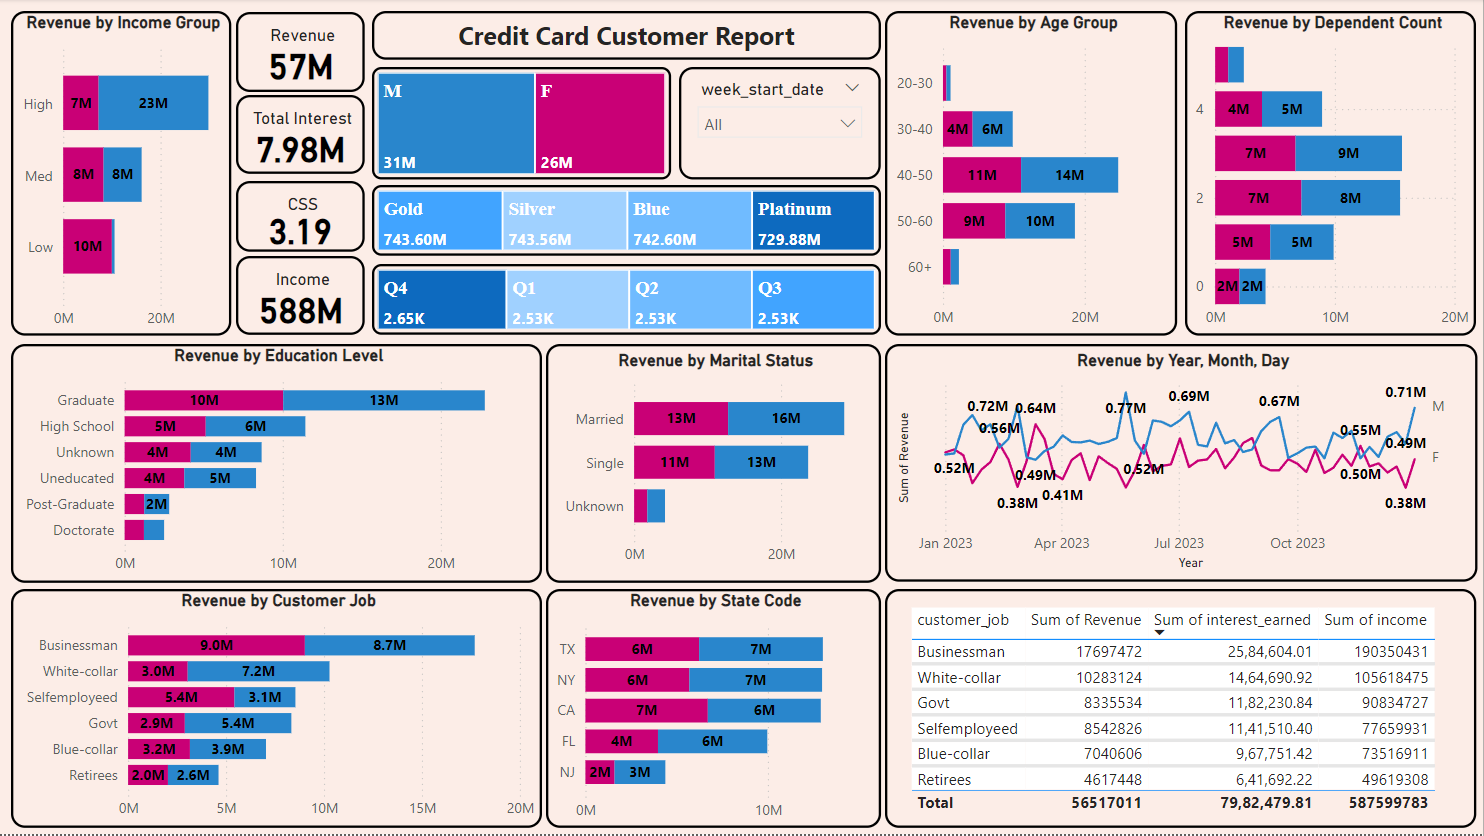

What the dashboard file says about the page in this screenshot:
{"tool":"powerbi","page":{"name":"Credit_Card_Customer_Report","canvas":[1280,720],"ordinal":1},"visuals":[{"type":"textbox","box":[322.1,10.1,438.6,42.2],"z":0},{"type":"slicer","fields":{"Values":["public customer_card_transactions.week_start_date"]},"box":[586.3,58.7,174.3,97.3],"z":1000},{"type":"treemap","fields":{"Group":["public customer_card_transactions.qtr"],"Values":["Count(public customer_card_transactions.Revenue)"]},"box":[322.1,228.5,438.6,61.5],"z":2000},{"type":"treemap","fields":{"Group":["public customer_profile.gender"],"Values":["Sum(public customer_card_transactions.Revenue)"]},"box":[322.1,58.7,257.8,97.3],"z":3000},{"type":"treemap","fields":{"Group":["public customer_card_transactions.card_category"],"Values":["Avg(public customer_card_transactions.client_num)"]},"box":[322.1,160.6,438.6,61.5],"z":4000},{"type":"card","title":"Revenue","fields":{"Values":["Sum(public customer_card_transactions.Revenue)"]},"box":[204.6,11,111,68.8],"z":5000},{"type":"card","title":"Total Interest","fields":{"Values":["Sum(public customer_card_transactions.interest_earned)"]},"box":[204.6,82.6,111,67.9],"z":6000},{"type":"card","title":"Income","fields":{"Values":["Sum(public customer_profile.income)"]},"box":[204.6,222.1,111,67.9],"z":7000},{"type":"card","title":"CSS","fields":{"Values":["Avg(public customer_profile.cust_satisfaction_score)"]},"box":[204.6,156.9,111,61.5],"z":8000},{"type":"lineChart","title":"Revenue by Year, Month, Day","fields":{"Y":["Sum(public customer_card_transactions.Revenue)"],"Category":["public customer_card_transactions.week_start_date.Variation.Date Hierarchy.Year","public customer_card_transactions.week_start_date.Variation.Date Hierarchy.Month","public customer_card_transactions.week_start_date.Variation.Date Hierarchy.Day"],"Series":["public customer_profile.gender"]},"box":[764.2,297.6,510.6,205.3],"z":9000},{"type":"barChart","title":"Revenue by Income Group","fields":{"Category":["public customer_profile.Income_Group"],"Y":["Sum(public customer_card_transactions.Revenue)"],"Series":["public customer_profile.gender"]},"box":[10.1,10.1,189.9,279.9],"z":10000},{"type":"barChart","title":"Revenue by Customer Job ","fields":{"Y":["Sum(public customer_card_transactions.Revenue)"],"Category":["public customer_profile.customer_job"],"Series":["public customer_profile.gender"]},"box":[10.1,509.2,457.9,205.5],"z":11000},{"type":"barChart","title":"Revenue by Age Group","fields":{"Y":["Sum(public customer_card_transactions.Revenue)"],"Category":["public customer_profile.Age_Group"],"Series":["public customer_profile.gender"]},"box":[764.3,10.1,252.3,279.9],"z":12000},{"type":"barChart","title":"Revenue by Education Level","fields":{"Y":["Sum(public customer_card_transactions.Revenue)"],"Category":["public customer_profile.education_level"],"Series":["public customer_profile.gender"]},"box":[10.1,297.3,457.9,205.5],"z":13000},{"type":"barChart","title":"Revenue by State Code","fields":{"Y":["Sum(public customer_card_transactions.Revenue)"],"Category":["public customer_profile.state_cd"],"Series":["public customer_profile.gender"]},"box":[471.6,509.2,289,205.5],"z":14000},{"type":"tableEx","fields":{"Values":["public customer_profile.customer_job","Sum(public customer_card_transactions.Revenue)","Sum(public customer_card_transactions.interest_earned)","Sum(public customer_profile.income)"]},"box":[764.3,509.2,510.2,205.5],"z":15000},{"type":"barChart","title":"Revenue by Dependent Count","fields":{"Y":["Sum(public customer_card_transactions.Revenue)"],"Category":["public customer_profile.dependent_count"],"Series":["public customer_profile.gender"]},"box":[1023.1,10.1,251.4,279.9],"z":16000},{"type":"barChart","title":"Revenue by Marital Status","fields":{"Y":["Sum(public customer_card_transactions.Revenue)"],"Category":["public customer_profile.marital_status"],"Series":["public customer_profile.gender"]},"box":[471.6,297.3,289,205.5],"z":17000}]}

Visuals, with their boxes in screenshot pixels (x1, y1, x2, y2), scaled from the page's 1280x720 canvas onto the 1484x836 screenshot:
textbox: region(373, 12, 882, 61)
slicer - public customer_card_transactions.week_start_date: region(680, 68, 882, 181)
treemap - public customer_card_transactions.qtr x Count(public customer_card_transactions.Revenue): region(373, 265, 882, 337)
treemap - public customer_profile.gender x Sum(public customer_card_transactions.Revenue): region(373, 68, 672, 181)
treemap - public customer_card_transactions.card_category x Avg(public customer_card_transactions.client_num): region(373, 186, 882, 258)
"Revenue" card: region(237, 13, 366, 93)
"Total Interest" card: region(237, 96, 366, 175)
"Income" card: region(237, 258, 366, 337)
"CSS" card: region(237, 182, 366, 254)
"Revenue by Year, Month, Day" lineChart: region(886, 346, 1478, 584)
"Revenue by Income Group" barChart: region(12, 12, 232, 337)
"Revenue by Customer Job " barChart: region(12, 591, 543, 830)
"Revenue by Age Group" barChart: region(886, 12, 1179, 337)
"Revenue by Education Level" barChart: region(12, 345, 543, 584)
"Revenue by State Code" barChart: region(547, 591, 882, 830)
tableEx - public customer_profile.customer_job x Sum(public customer_card_transactions.Revenue): region(886, 591, 1478, 830)
"Revenue by Dependent Count" barChart: region(1186, 12, 1478, 337)
"Revenue by Marital Status" barChart: region(547, 345, 882, 584)
